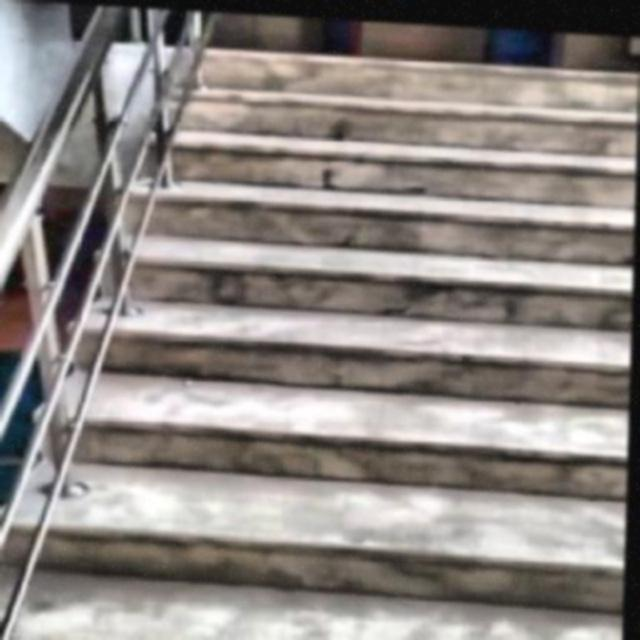stair: (36, 27, 638, 638)
